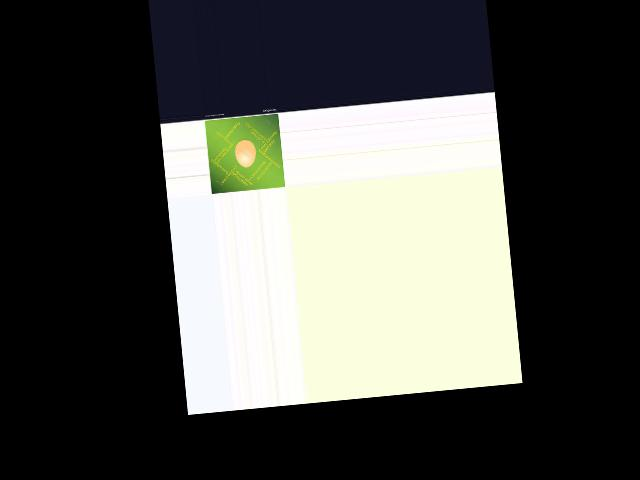egg: (233, 139, 256, 168)
